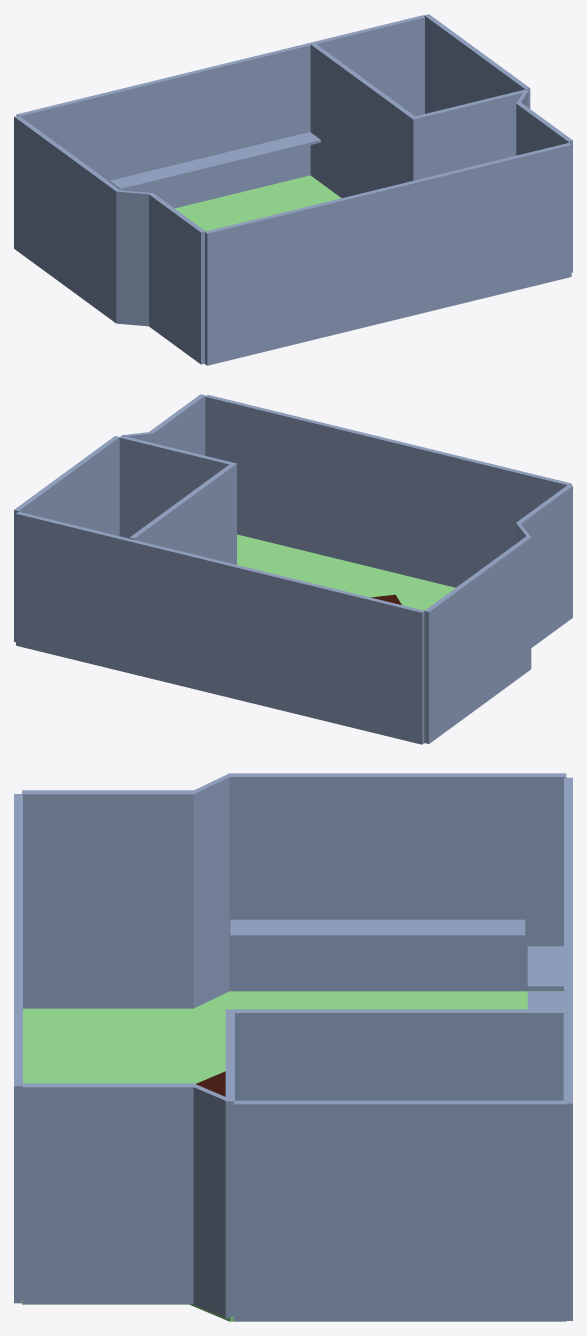
The model's file is cesFloor.fbx.
3 renders of one model, top to bottom at view 1: azimuth 30°, elevation 25°; view 2: azimuth 150°, elevation 25°; view 3: azimuth 270°, elevation 25°, orthographic. The views are drawn at different scales.
Parts seen in each view (by area): view 1: Wall-E.005, Wall-E.001, Wall-E.003, Wall-E.006, Wall-E.002, Wall-E, Wall-E.004, Floor, Counter Nbig, Wall-E.007; view 2: Wall-E.001, Wall-E.005, Wall-E.003, Wall-E, Floor, Wall-E.006, Wall-E.004, Wall-E.002, Wall-E.007; view 3: Wall-E.004, Wall-E.003, Wall-E.006, Wall-E.007, Wall-E.002, Floor, Counter W, Storage.001, Wall-E.005, Wall-E.001, Wall-E, Counter Nsmall (+1 smaller).
Boxes of the visible parts, <box> form: Wall-E.005: <box>205,143,571,365</box>; Wall-E.001: <box>16,15,424,208</box>; Wall-E.003: <box>14,115,120,322</box>; Wall-E.006: <box>116,190,205,364</box>; Wall-E.002: <box>310,43,417,197</box>; Wall-E: <box>415,89,527,179</box>; Wall-E.004: <box>424,14,530,113</box>; Floor: <box>175,175,341,231</box>; Counter Nbig: <box>109,132,320,190</box>; Wall-E.007: <box>516,91,572,272</box>; Wall-E.001: <box>16,512,424,744</box>; Wall-E.005: <box>205,394,571,587</box>; Wall-E.003: <box>424,536,531,743</box>; Wall-E: <box>119,435,231,538</box>; Floor: <box>237,534,455,610</box>; Wall-E.006: <box>516,484,572,647</box>; Wall-E.004: <box>14,436,119,642</box>; Wall-E.002: <box>129,462,236,564</box>; Wall-E.007: <box>122,394,205,455</box>; Wall-E.004: <box>234,1100,566,1321</box>; Wall-E.003: <box>229,773,566,991</box>; Wall-E.006: <box>22,773,229,1008</box>; Wall-E.007: <box>23,1083,225,1317</box>; Wall-E.002: <box>225,1009,563,1100</box>; Floor: <box>22,1008,527,1304</box>; Counter W: <box>230,919,525,939</box>; Storage.001: <box>194,991,563,1008</box>; Wall-E.005: <box>14,794,22,1303</box>; Wall-E.001: <box>564,777,572,1320</box>; Wall-E: <box>225,1013,234,1318</box>; Counter Nsmall: <box>527,946,563,990</box>.
Bounding box in the file's own units: 8225 × 2538 × 5834.
